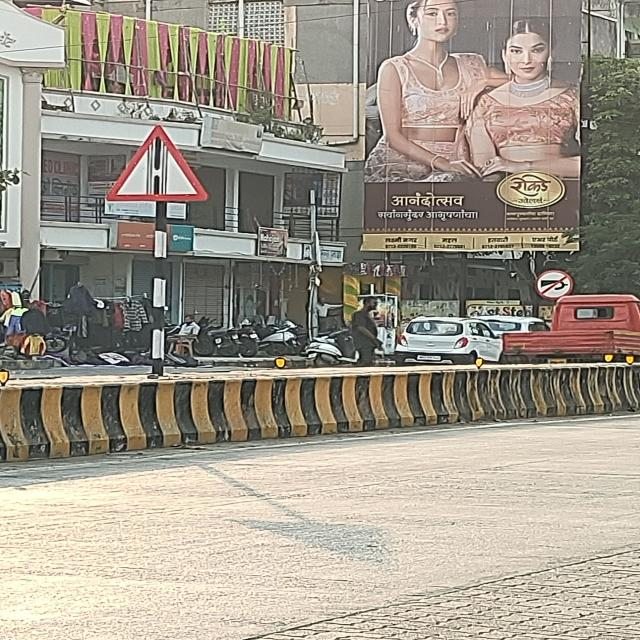ferry: (106, 124, 209, 202)
